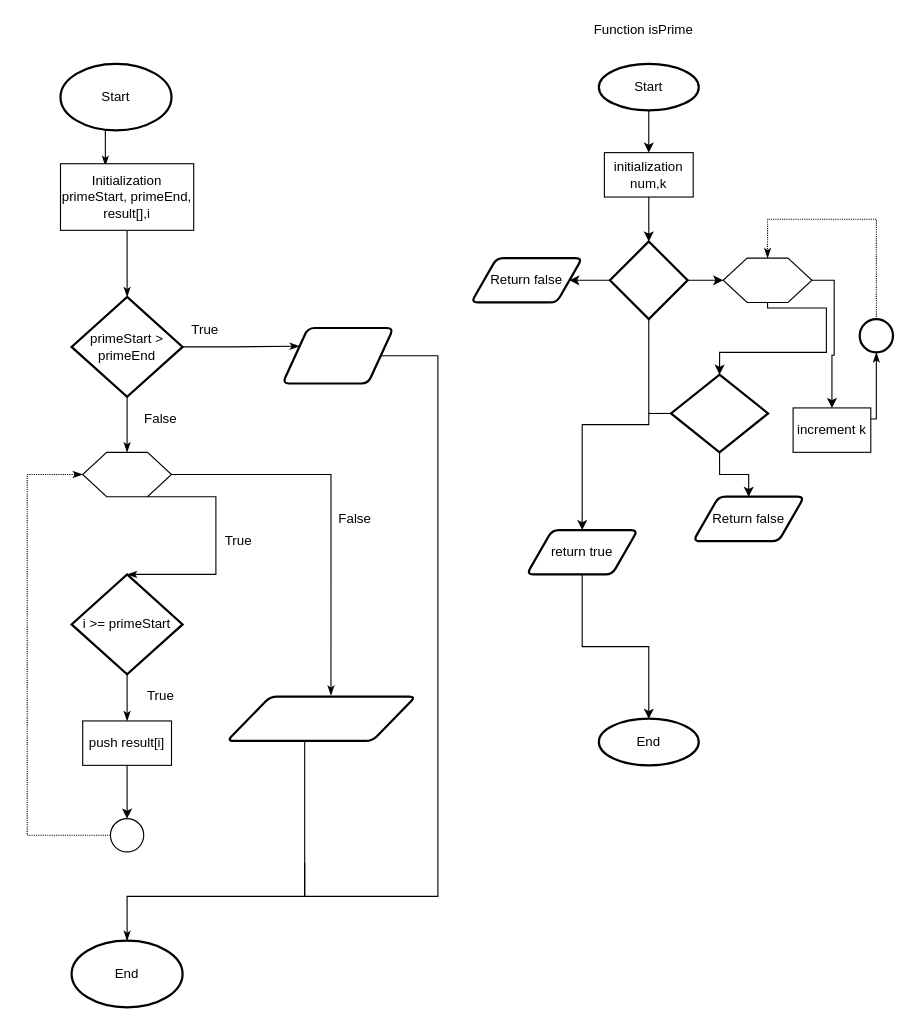
The diagram is 914 pixels wide and 1027 high, and some of its shapes have lost their labels. Each missing label, with the centre of its shape:
"i = primeStart; i <= primeEnd" goes at [126,474].
"k = 2; k < num" goes at [767,279].
"num % k == 0" goes at [719,413].
"num < 2" goes at [648,280].
"Output: input invalid" goes at [337,355].
"Output: result.filter(isPrime)" goes at [320,718].
